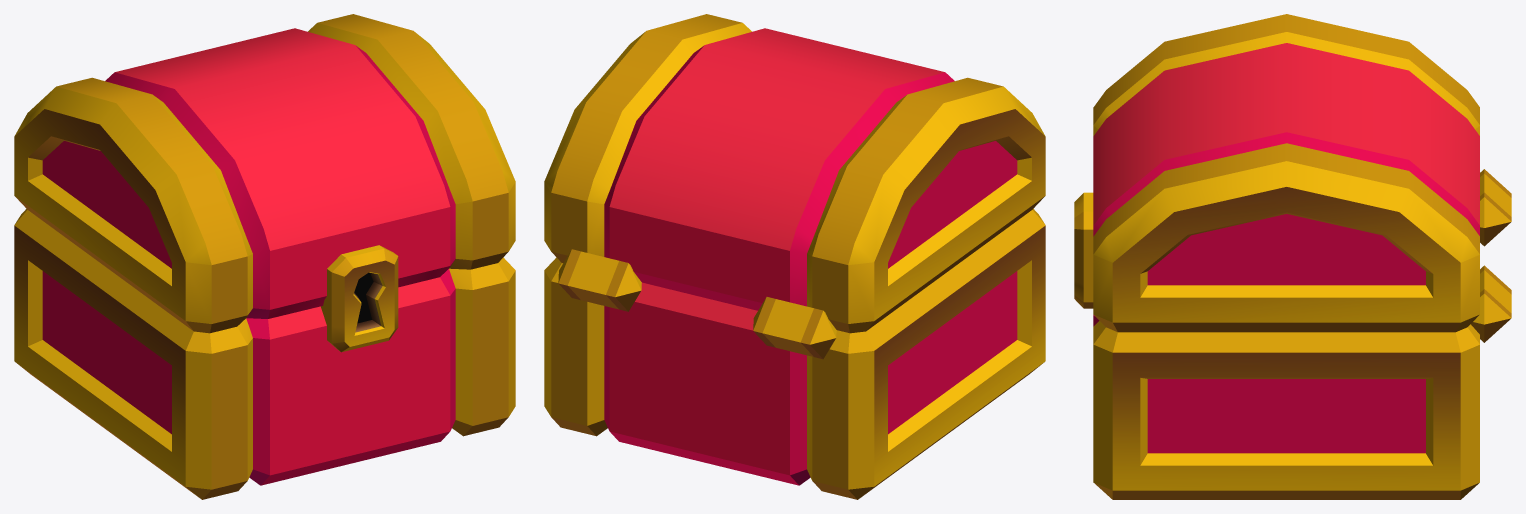
File: m_deco_chestA_closed.FBX
3 renders of one model, left to right at view 1: azimuth 30°, elevation 25°; view 2: azimuth 150°, elevation 25°; view 3: azimuth 270°, elevation 25°, orthographic.
Visible parts, largest first — view 1: m_deco_chestA_closed; view 2: m_deco_chestA_closed; view 3: m_deco_chestA_closed.
Part boxes in pixels (left/top/right/bottom): m_deco_chestA_closed: left=14, top=14, right=515, bottom=499; m_deco_chestA_closed: left=544, top=14, right=1045, bottom=499; m_deco_chestA_closed: left=1074, top=14, right=1511, bottom=499.
Size of the model in its own units: 2 by 1.93 by 2.26.
